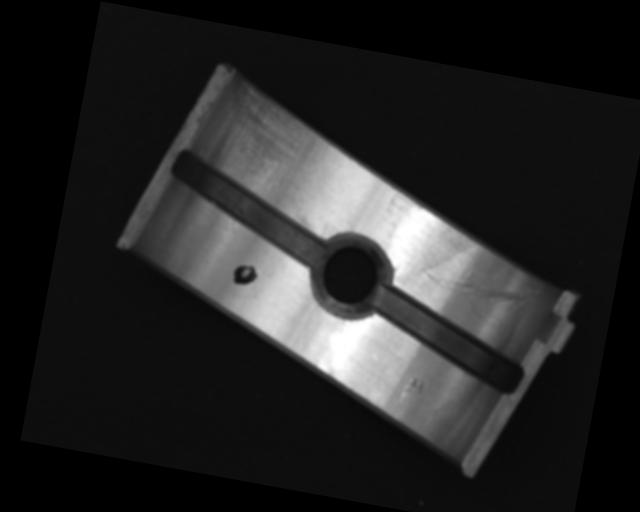blot: (230, 261, 260, 287)
bruise: (396, 374, 426, 409)
gap: (159, 146, 338, 269), (358, 284, 535, 396)
hole: (303, 224, 400, 325)
nick: (410, 263, 545, 331)
scratch: (208, 74, 338, 230)
